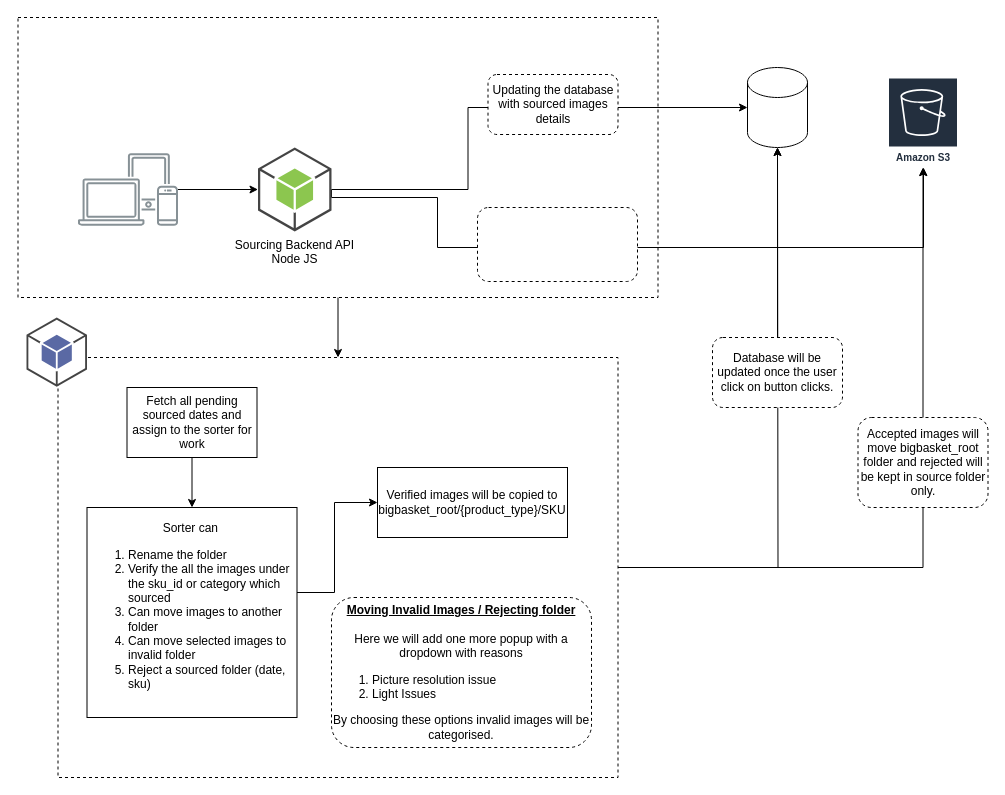
This 1005x795 diagram has some shape labels left out. Here are the shapes that lost their labels. From the top down, the centre of each, then its label:
At (777,107): "VISION DB".
At (128,189): "Sourcing APP".
At (557,244): "Storing sourced images in Amazon S3 bucket under bigbasket_source/{date}/sku/".
At (56,351): "Data Cleaning".
